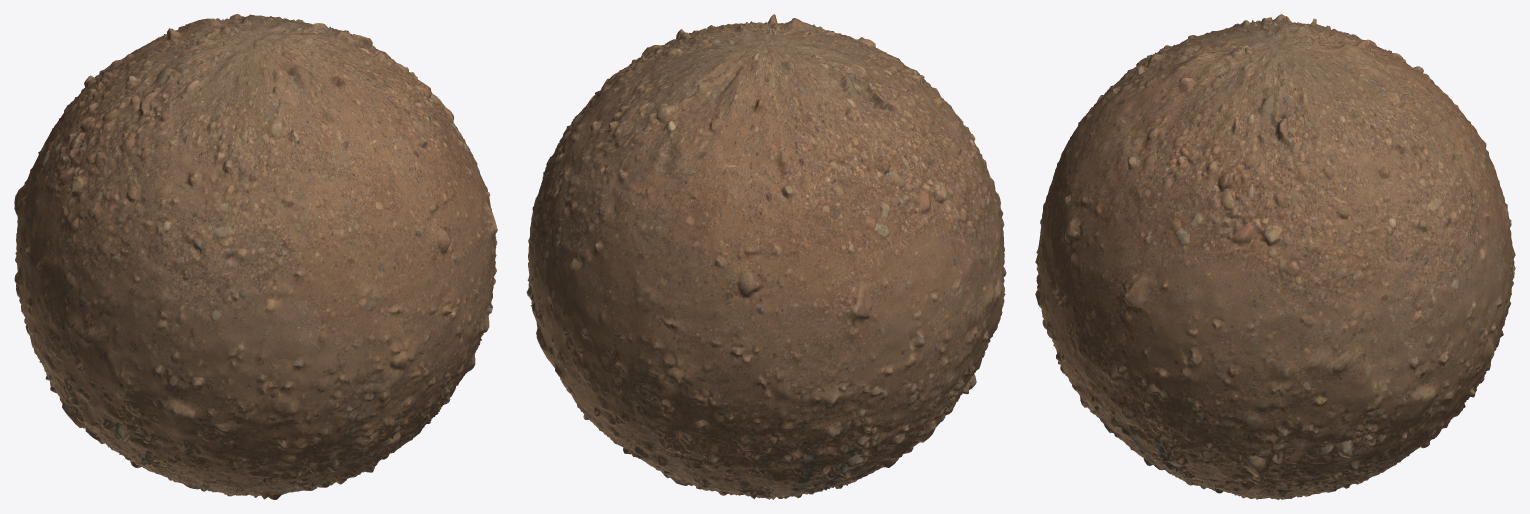
The model's file is rocky_trail_02_2k.gltf.
3 renders of one model, left to right at view 1: azimuth 30°, elevation 25°; view 2: azimuth 150°, elevation 25°; view 3: azimuth 270°, elevation 25°, orthographic.
Parts seen in each view (by area): view 1: sphere_gltf; view 2: sphere_gltf; view 3: sphere_gltf.
Boxes of the visible parts, x1=… form: sphere_gltf: x1=14, y1=14, x2=497, y2=499; sphere_gltf: x1=526, y1=14, x2=1006, y2=499; sphere_gltf: x1=1035, y1=14, x2=1515, y2=499.
Bounding box in the file's own units: 2 × 2.03 × 2.02.
Materials: 1 (1 with a texture image).
